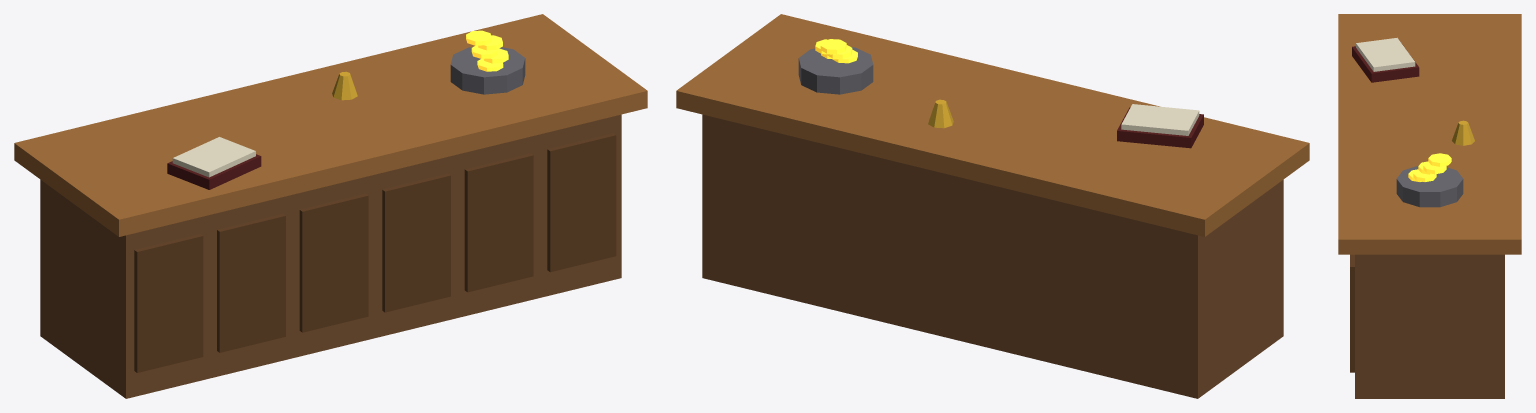
File: counter.glb
3 renders of one model, left to right at view 1: azimuth 30°, elevation 25°; view 2: azimuth 150°, elevation 25°; view 3: azimuth 270°, elevation 25°, orthographic. The views are drawn at different scales.
Parts seen in each view (by area): view 1: top, body, panel.005, panel, panel.002, panel.004, panel.003, panel.001, bowl, ledger_pages, ledger; view 2: body, top, bowl, ledger_pages, ledger; view 3: top, body, bowl, ledger_pages, ledger, panel.005, bell, c.004, c.003, c.001.
Boxes of the visible parts, x1,y1,x2,y2 form: top: (14,14,647,236); body: (40,114,621,398); panel.005: (547,133,616,272); panel: (134,234,203,372); panel.002: (299,193,368,332); panel.004: (464,153,533,292); panel.003: (382,173,450,312); panel.001: (217,214,285,352); bowl: (450,47,525,94); ledger_pages: (172,137,255,177); ledger: (167,154,261,189); body: (702,114,1283,398); top: (676,14,1309,236); bowl: (798,47,873,94); ledger_pages: (1121,104,1199,135); ledger: (1117,107,1203,148); top: (1338,14,1521,254); body: (1355,254,1504,398); bowl: (1396,165,1463,207); ledger_pages: (1356,37,1415,71); ledger: (1352,43,1419,82); panel.005: (1350,254,1354,372); bell: (1452,120,1474,145); c.004: (1428,153,1451,166); c.003: (1423,162,1446,174); c.001: (1413,170,1436,181).
Bounding box in the file's own units: 3.2 × 1.33 × 1.1.
